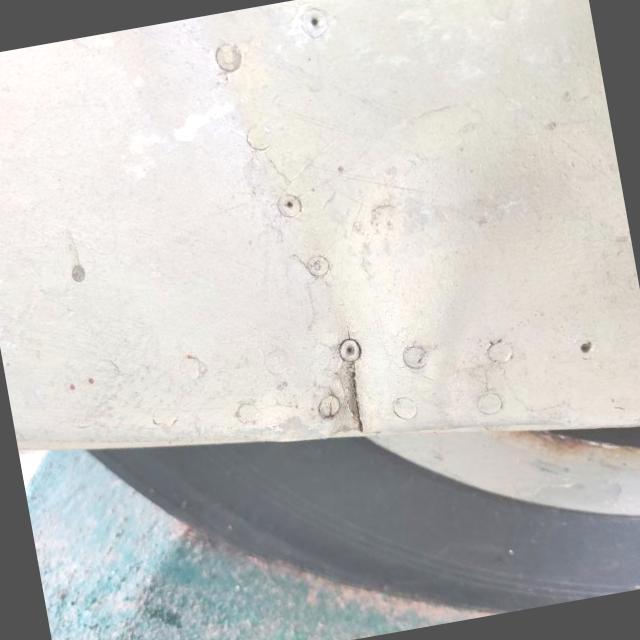crack: (317, 344, 400, 446)
